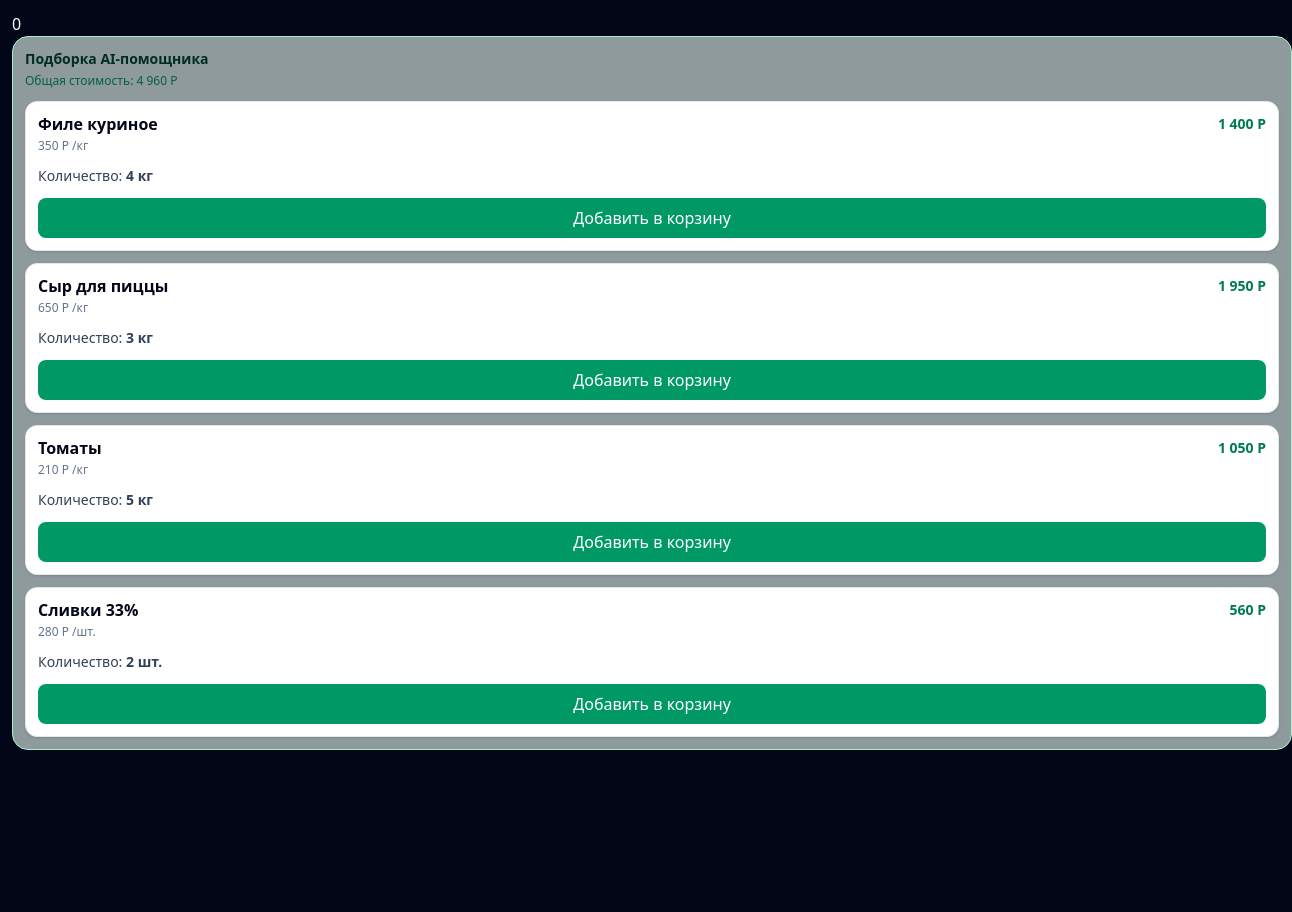
Test case: ProductRecommendationsTool › добавляет рекомендацию в общую корзину
Expected: the element "Томаты" is shown, [25, 425, 1279, 575]
Click the button "Добавить в корзину" below "210" at (652, 542), box [38, 522, 1266, 562]
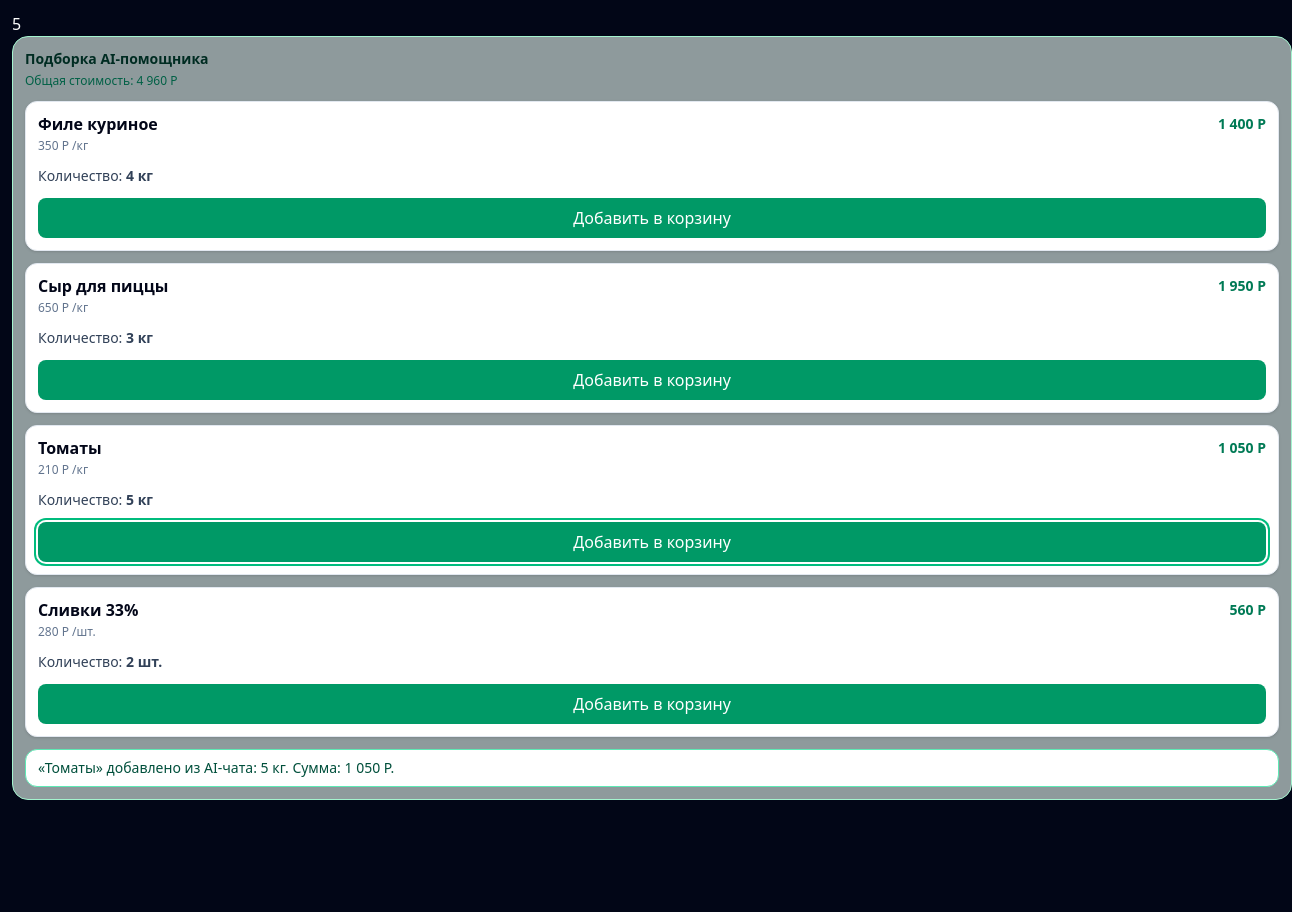
Expected: the text with test id "cart-total" reads "5", [12, 13, 21, 35]
